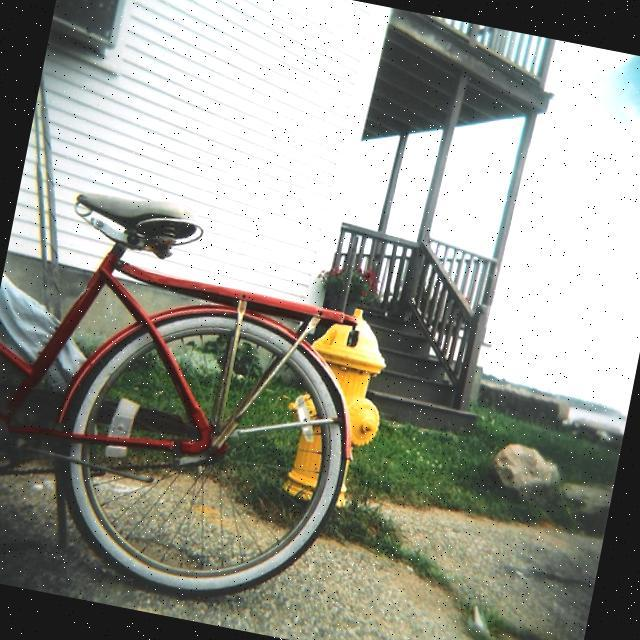fire_hydrant: (272, 298, 399, 511)
